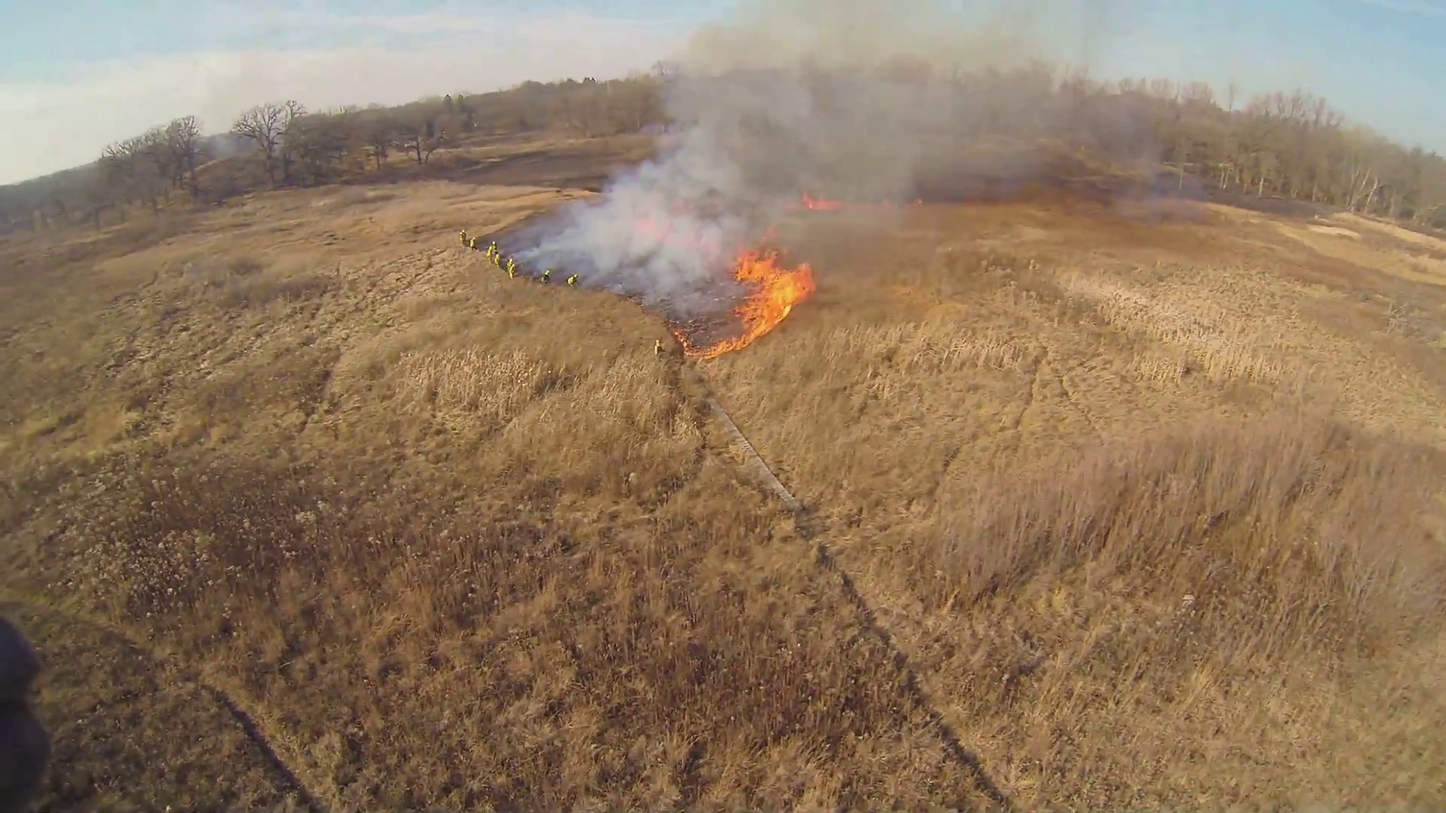forest_fire: (674, 248, 816, 358)
